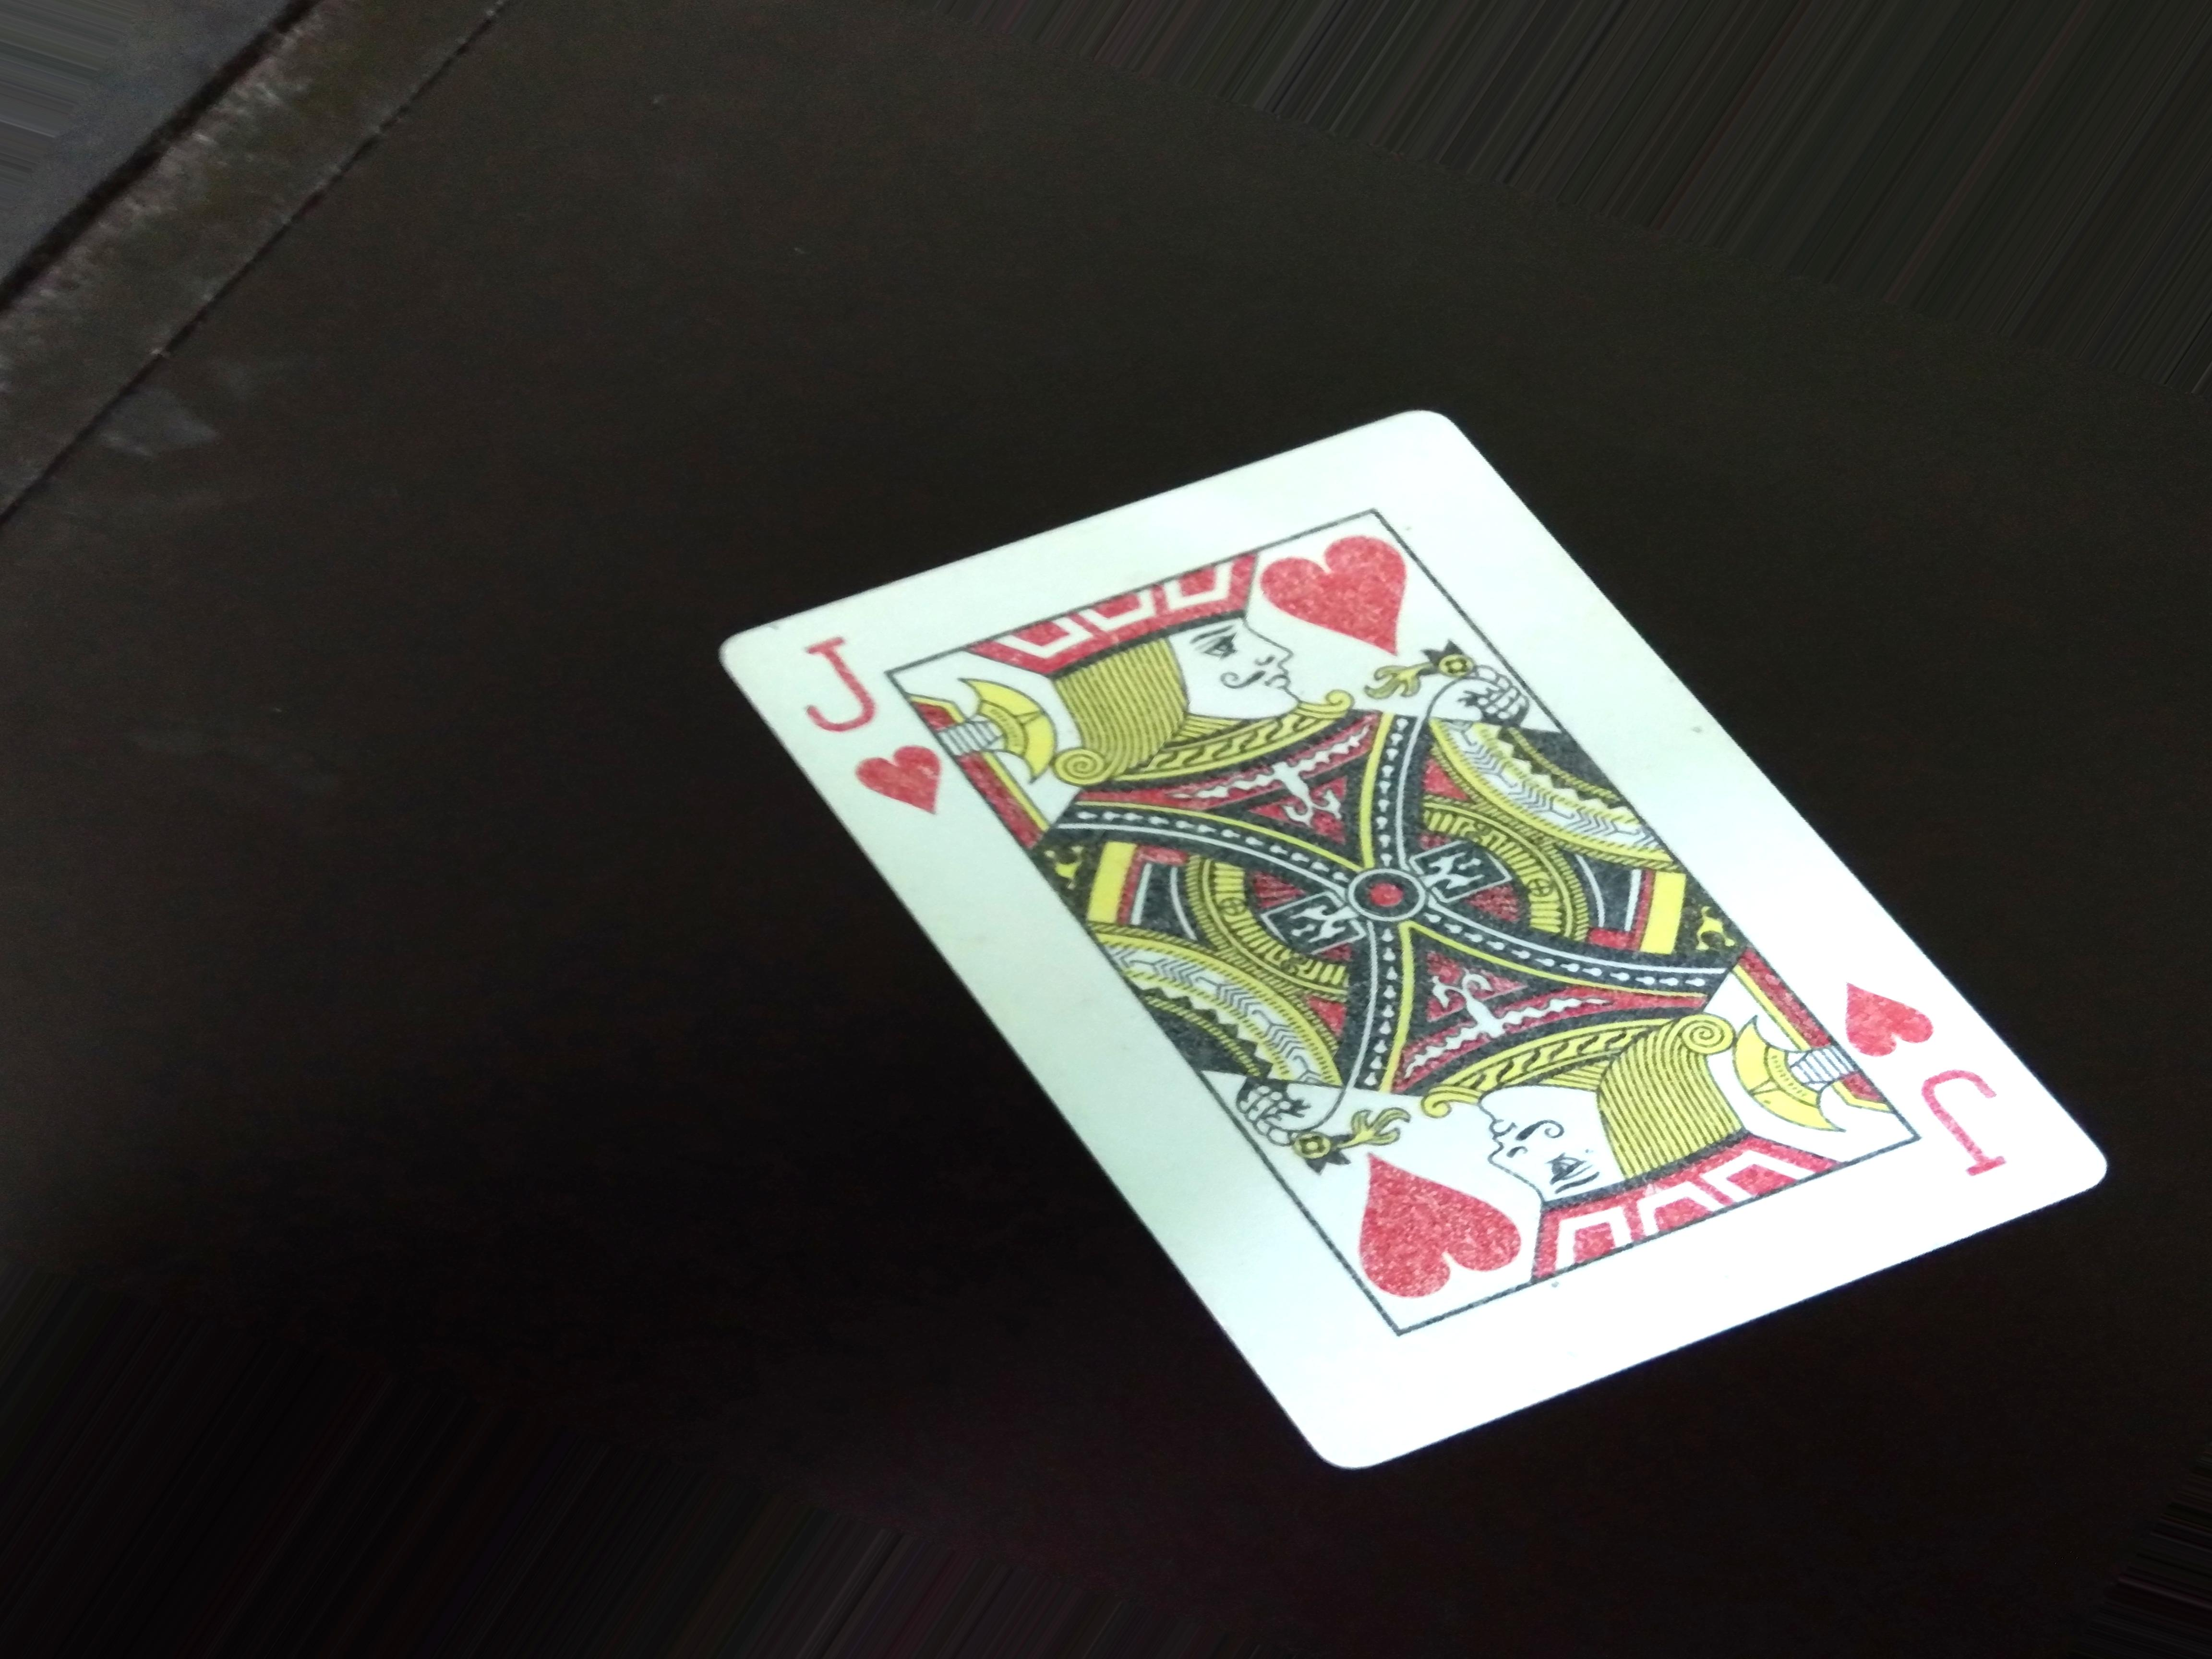JH: (794, 626, 946, 842)
